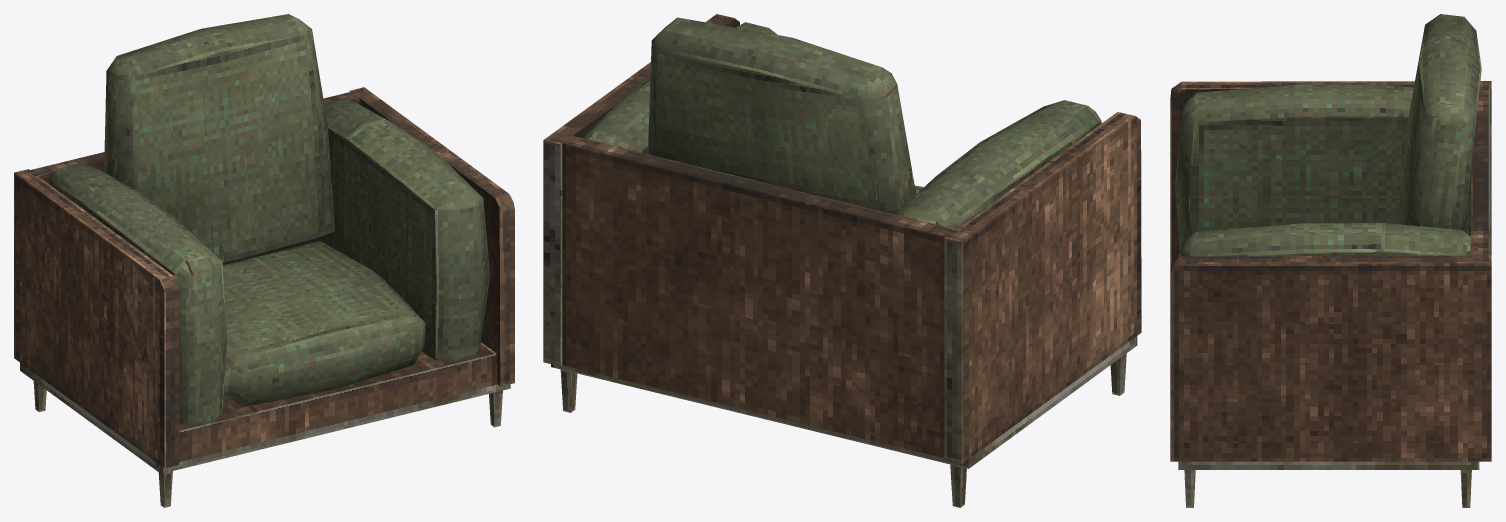
File: OneSeaterSofa.glb
3 renders of one model, left to right at view 1: azimuth 30°, elevation 25°; view 2: azimuth 150°, elevation 25°; view 3: azimuth 270°, elevation 25°, orthographic. The views are drawn at different scales.
Visible parts, largest first — view 1: OneSeaterSofa; view 2: OneSeaterSofa; view 3: OneSeaterSofa.
Boxes of the visible parts, x1=… form: OneSeaterSofa: x1=14, y1=14, x2=514, y2=507; OneSeaterSofa: x1=543, y1=14, x2=1141, y2=507; OneSeaterSofa: x1=1170, y1=14, x2=1491, y2=507.
Bounding box in the file's own units: 1.12 × 1.05 × 0.8325.
1 material, 1 textured.
